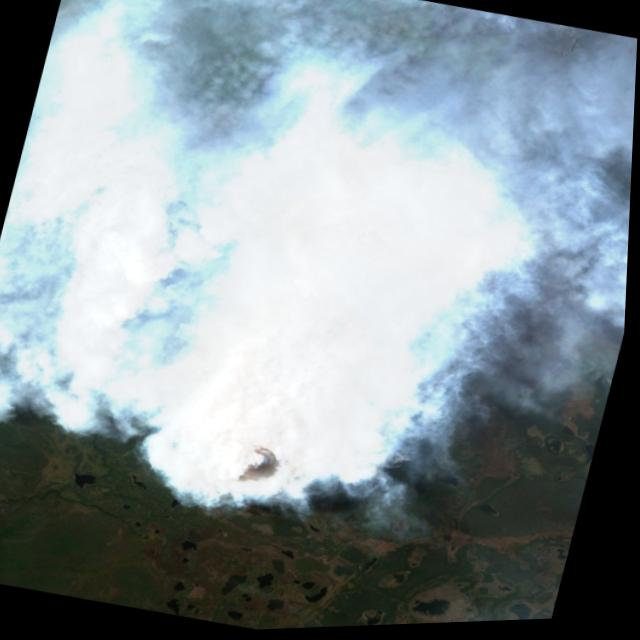fire: (19, 136, 521, 549)
